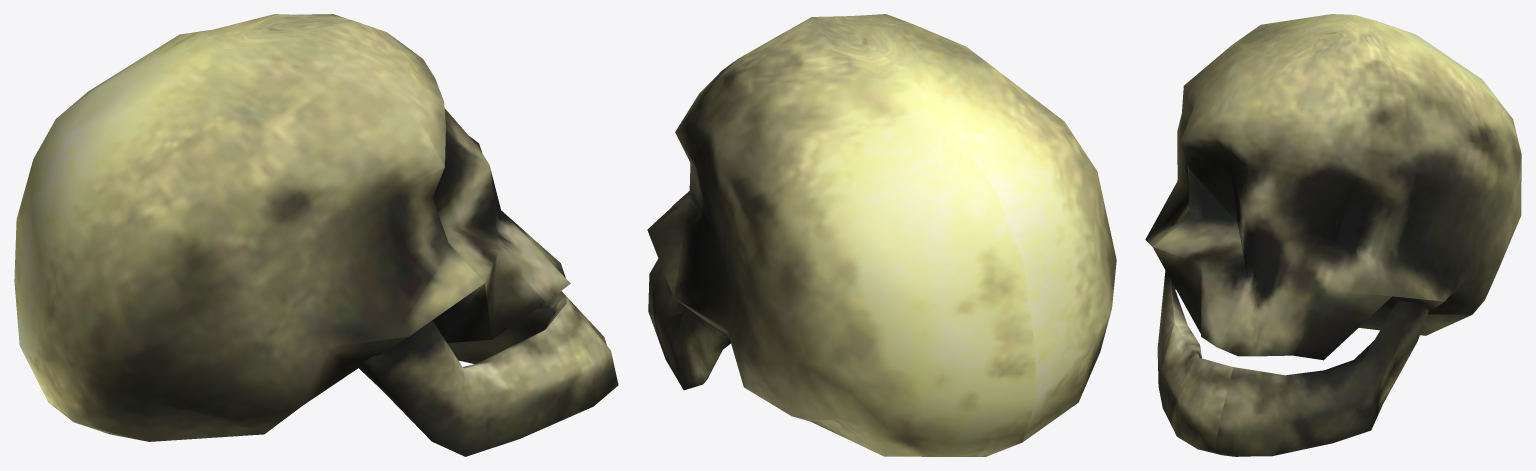
Rendered from skull.dae.
3 views of the same model, side by side, from view 1: azimuth 30°, elevation 25°; view 2: azimuth 150°, elevation 25°; view 3: azimuth 270°, elevation 25° (orthographic). The views are drawn at different scales.
Parts seen in each view (by area): view 1: Default_Layer; view 2: Default_Layer; view 3: Default_Layer.
Part boxes in pixels (x1,y1,x2,y2): Default_Layer: [14, 14, 618, 456]; Default_Layer: [647, 14, 1116, 456]; Default_Layer: [1145, 14, 1521, 456].
Bounding box in the file's own units: 0.2785 × 0.2038 × 0.2103.
